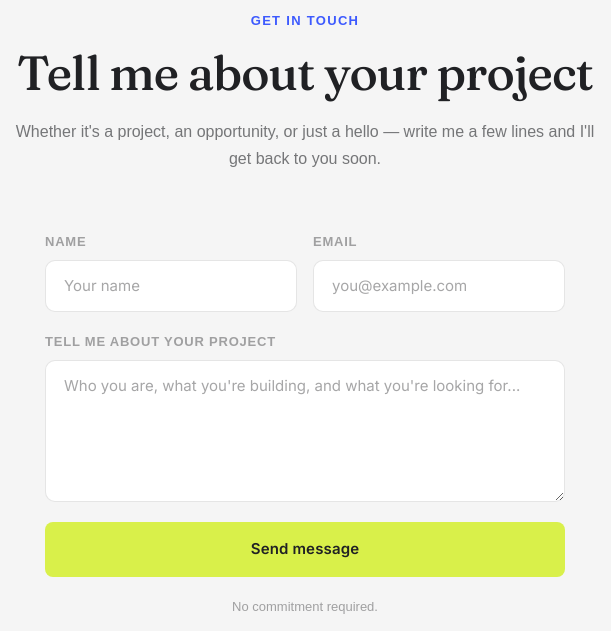
Contact form › posts the form data and shows the success message
Type "Ana" into the field with placeholder "Your name".
click(171, 286); type("Ana")  # box [45,260,297,312]
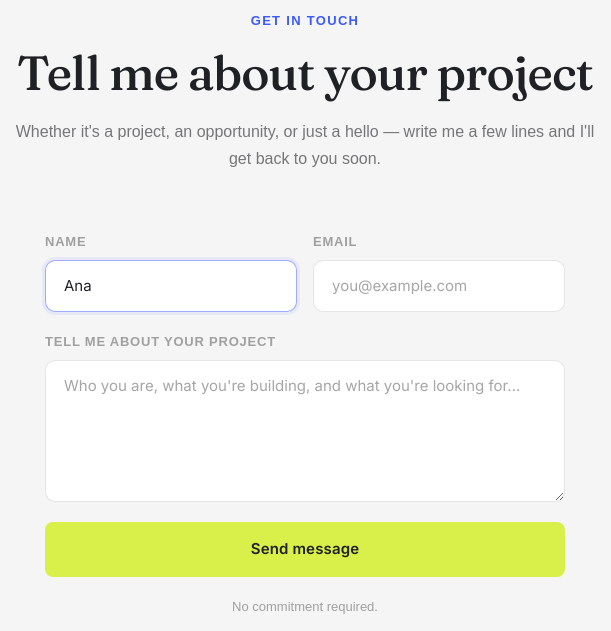
Type "ana@example.com" into the field with placeholder "you@example.com".
click(439, 286); type("ana@example.com")  # box [313,260,565,312]
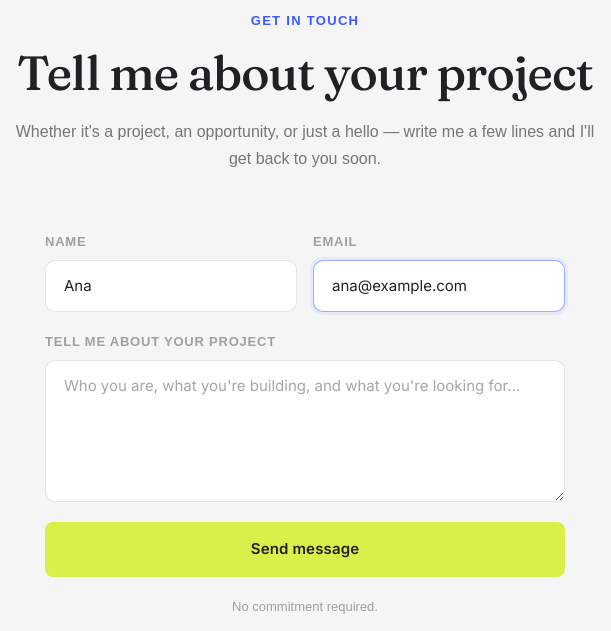
Type "Hi" into the text box with placeholder "Who you are".
click(305, 431); type("Hi")  # box [45,360,565,502]
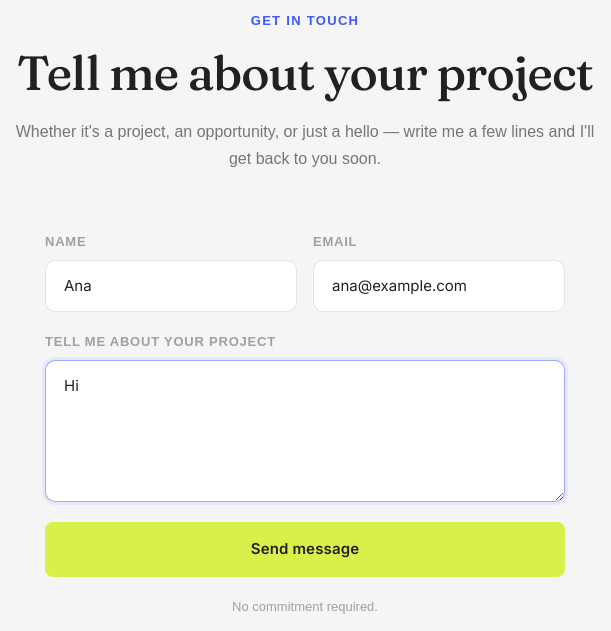
Click the button "Send message".
click(305, 549)  # box [45,522,565,577]
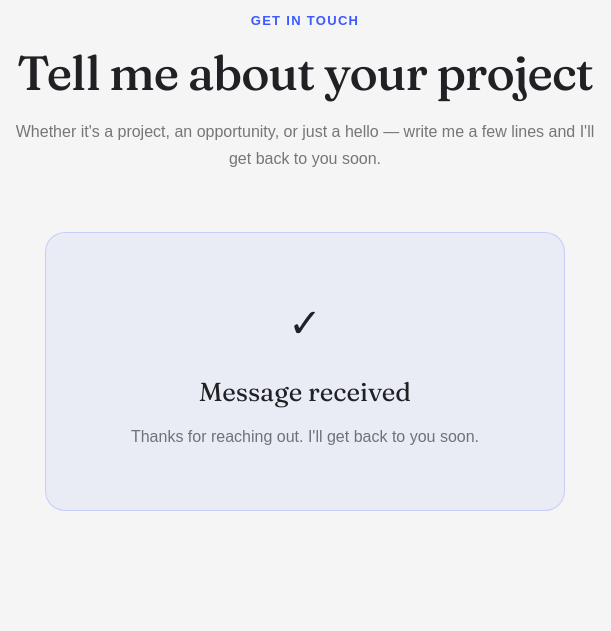
Check: the heading "Message received" is shown, box [199,376,411,408]
